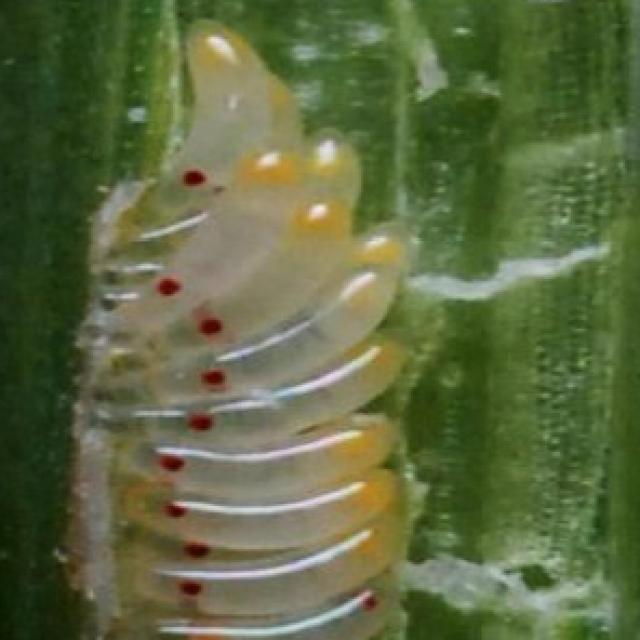brown plant hopper: (119, 22, 359, 400), (130, 266, 400, 408), (149, 342, 402, 448), (160, 515, 396, 614), (162, 415, 396, 499), (138, 469, 389, 547), (189, 575, 387, 640)
